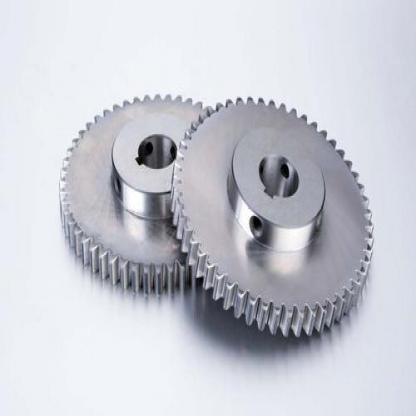FOD: (168, 93, 374, 344), (56, 90, 222, 295)
